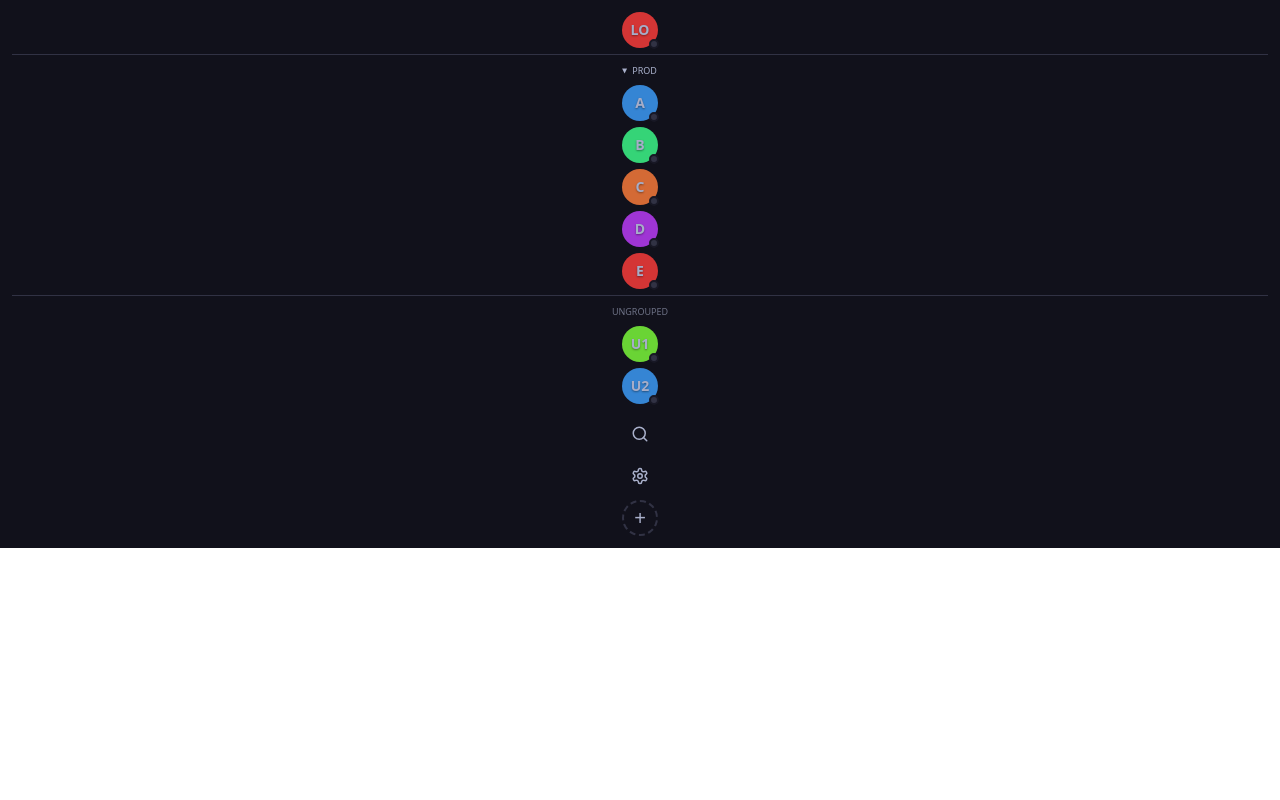
Test: HostRail group headers › in one column, have no hairline, and a count only when folded
What coordinates should you click on to do the following:
click the element with class "group-header" showing "▸ Prod"
I would click on:
 (638, 70)
Its box is [619, 64, 657, 77].
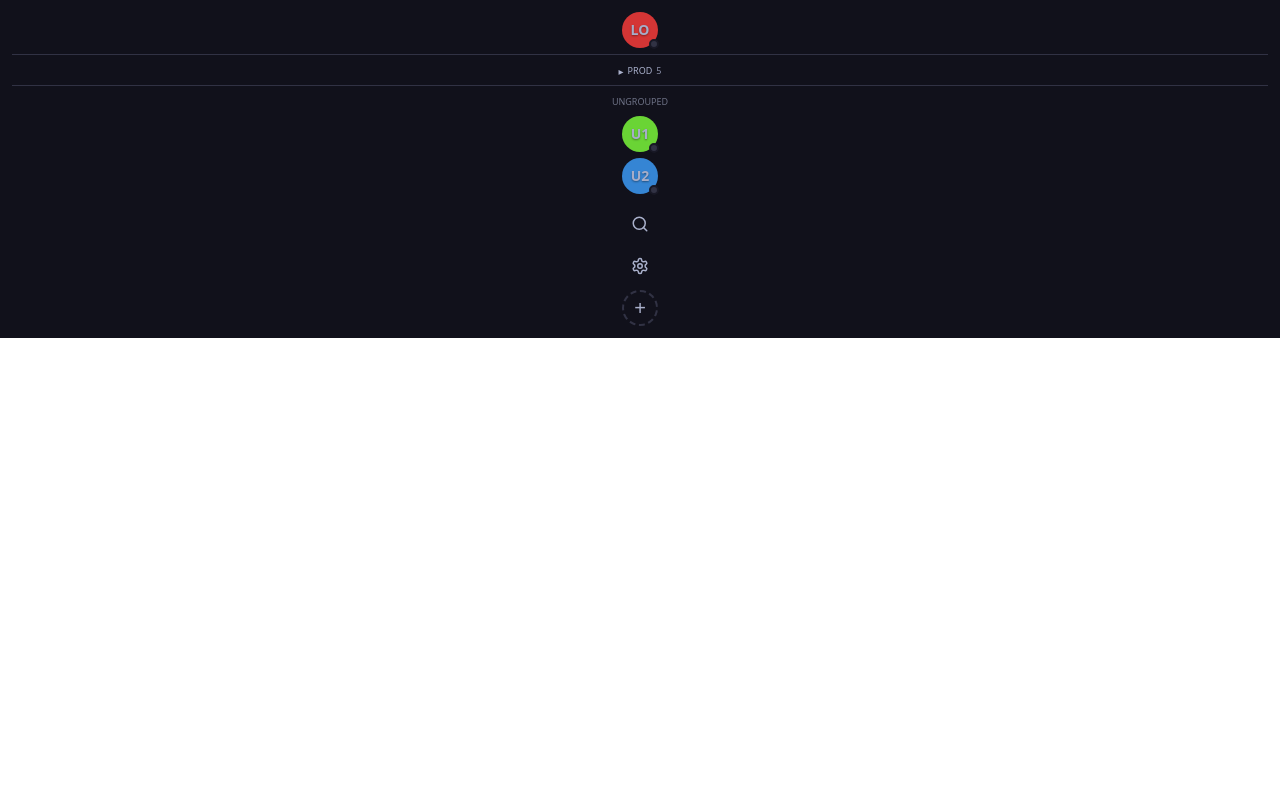
Expected: the text with class "group-count" reads "5", [656, 64, 662, 77]
